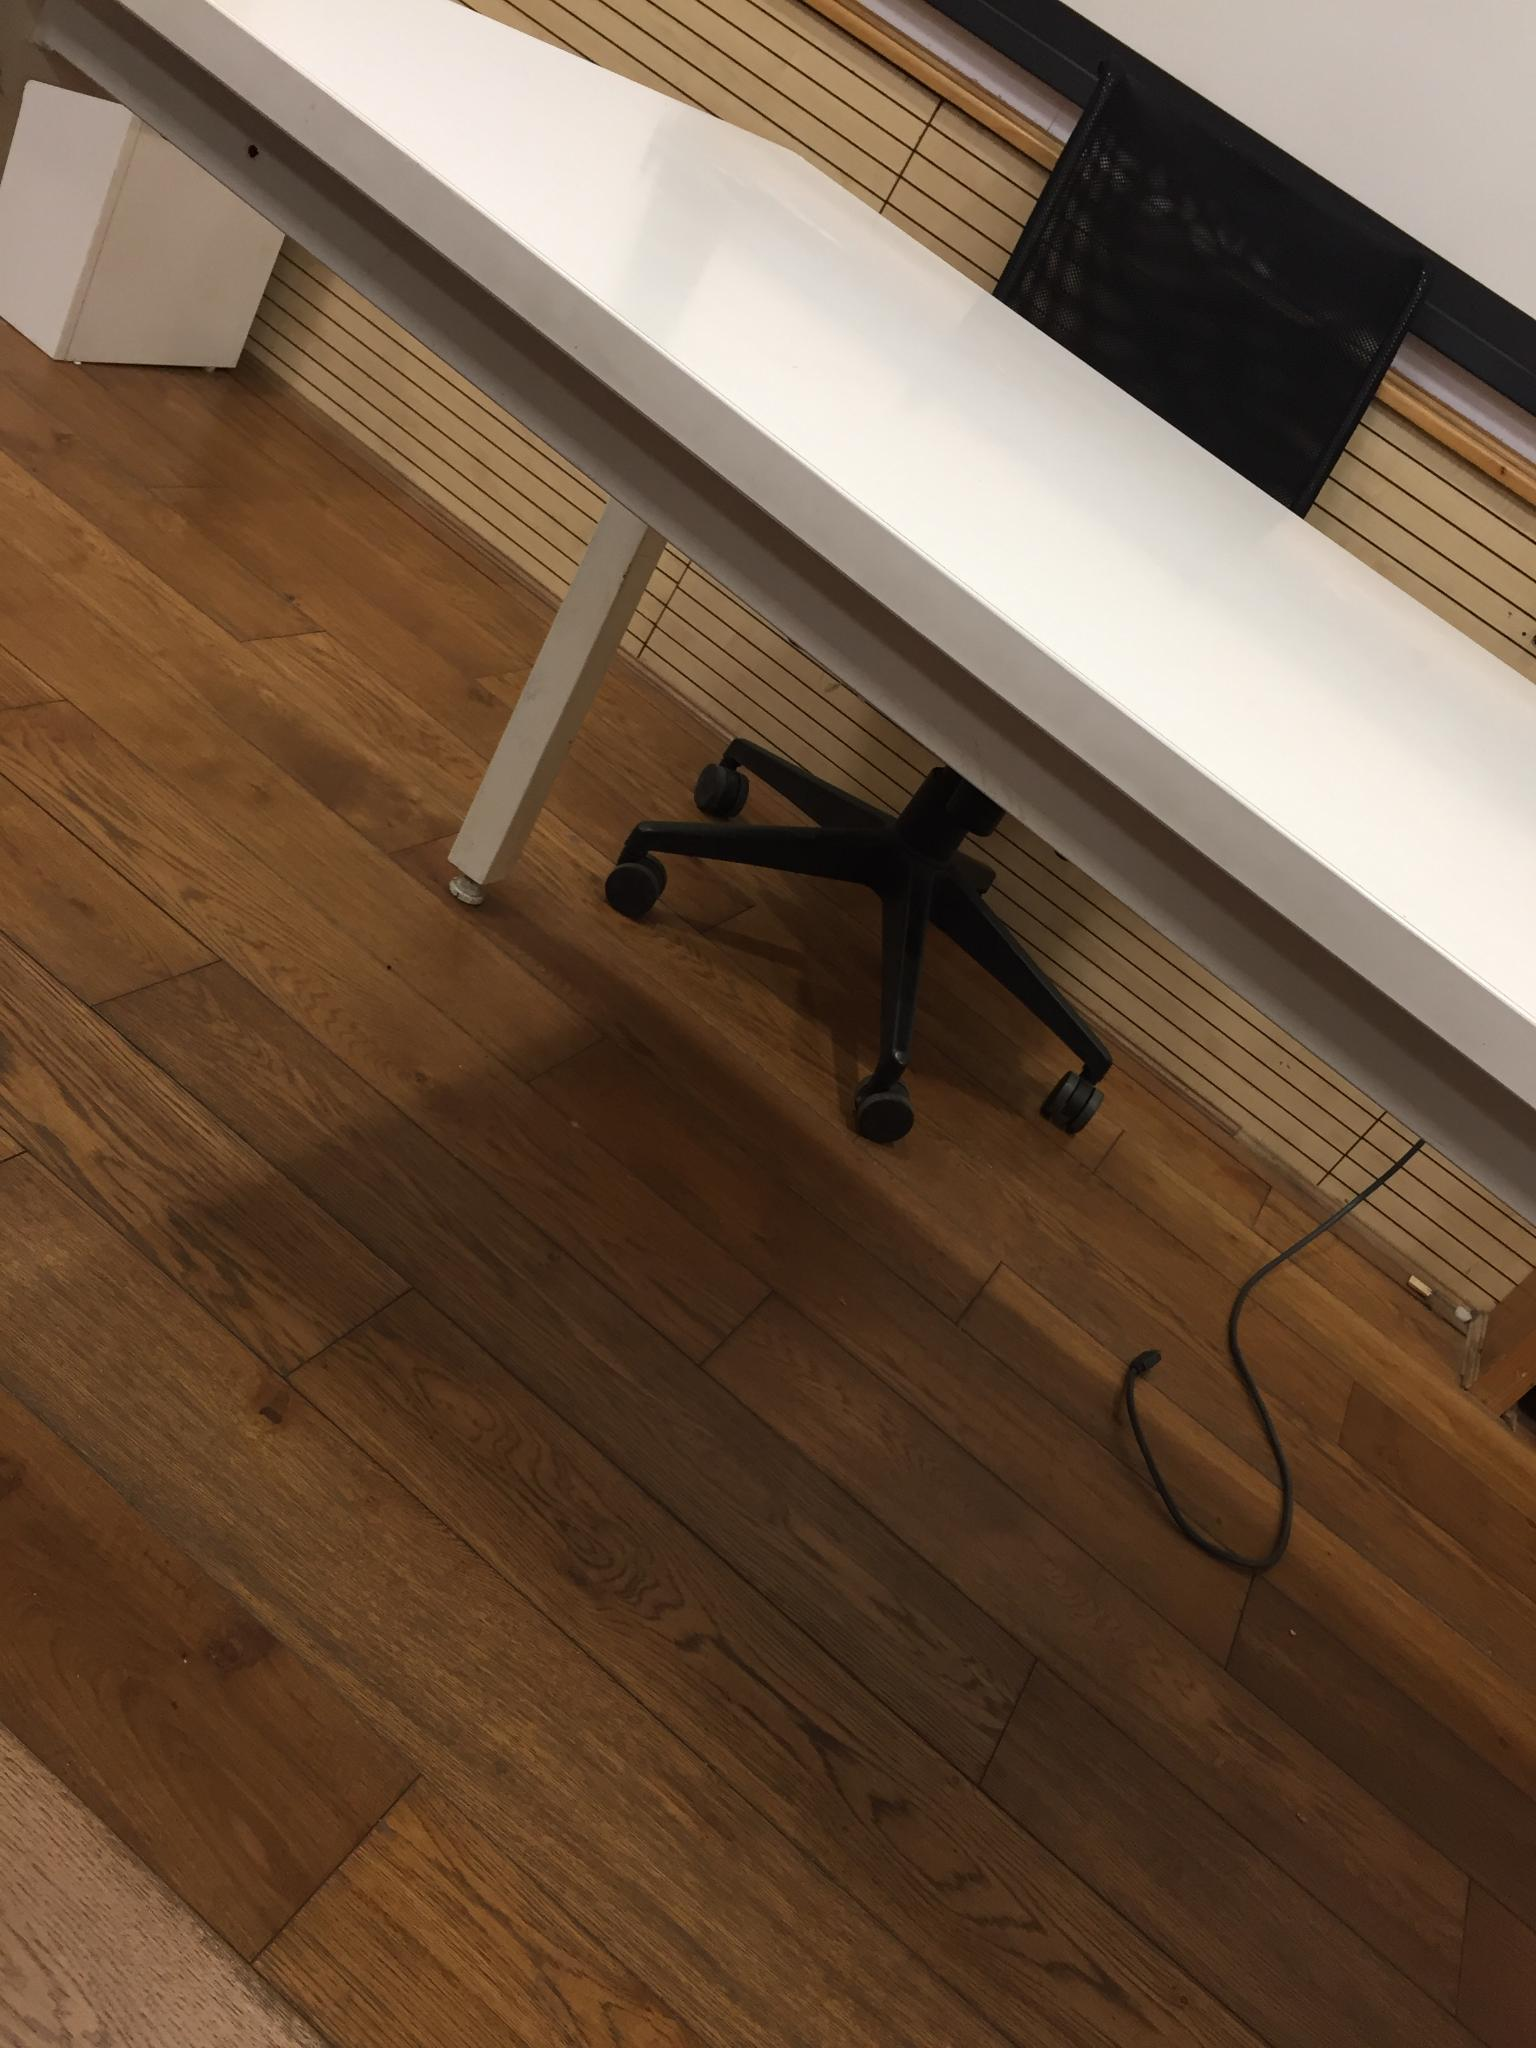chair: (600, 55, 1433, 1145)
